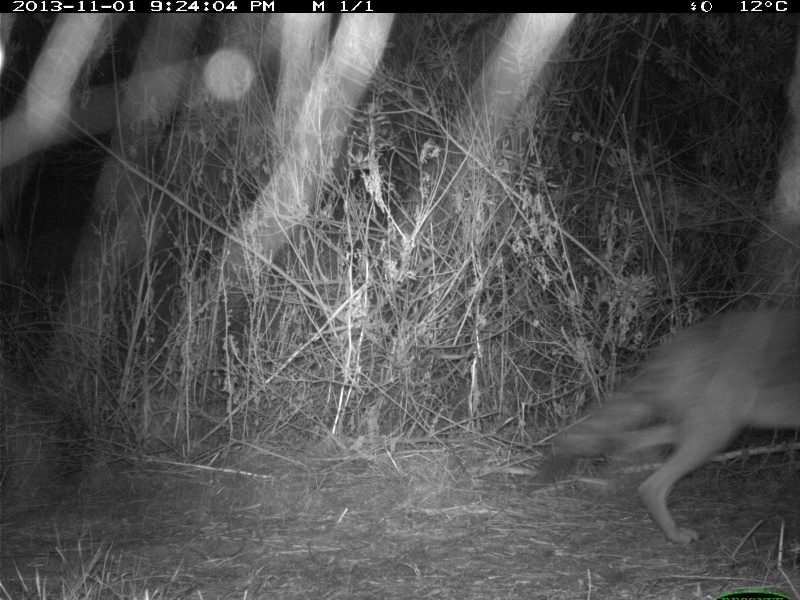coyote: (532, 299, 800, 543)
